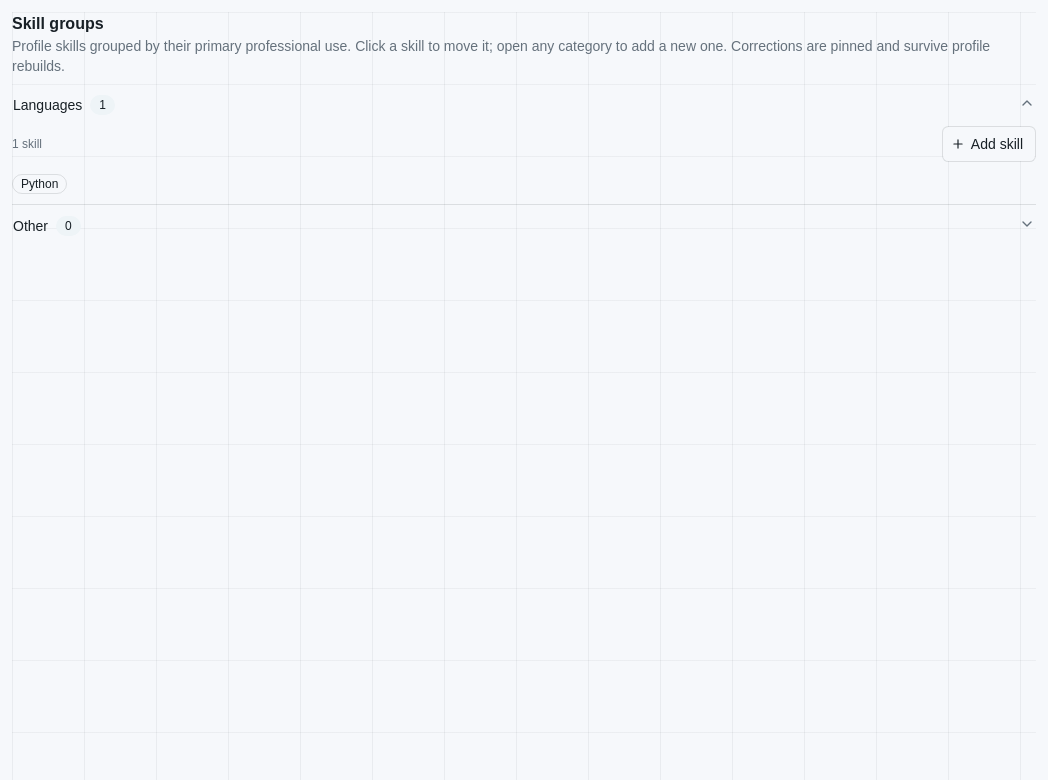
Test case: SkillGroupsPanel › does not offer reset for an automatic assignment
Click the button with aria-label "change group for python": (40, 184) x1=12 y1=174 x2=67 y2=194
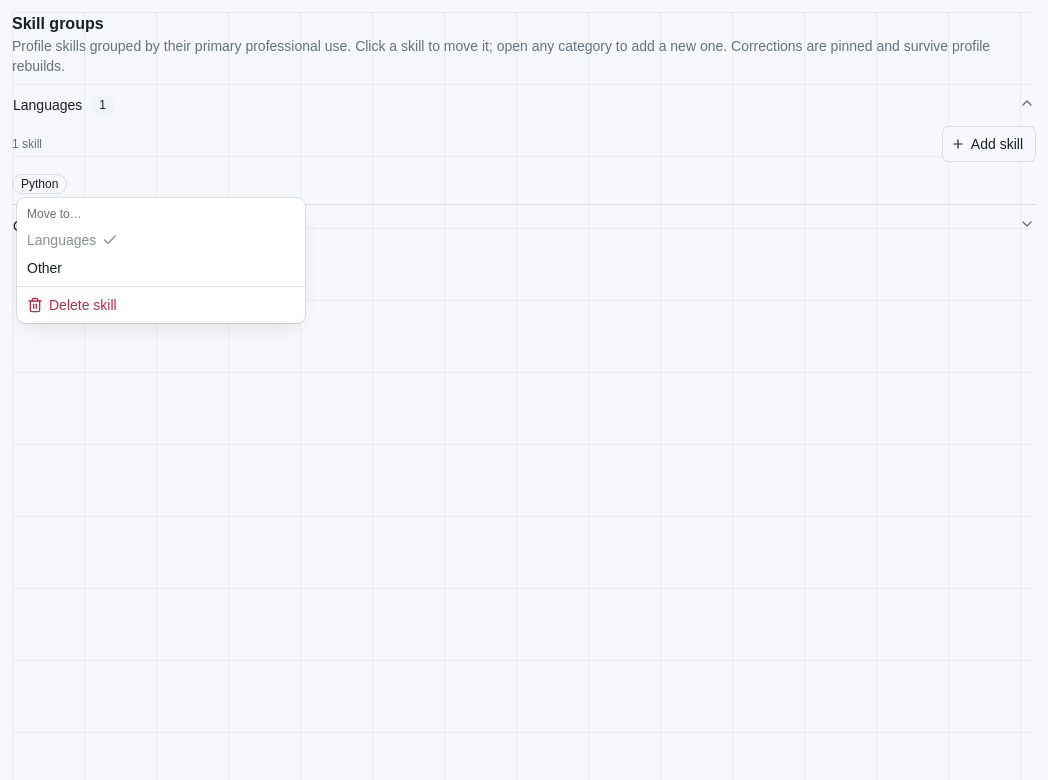
Now the menu item "Other" is shown, box x1=27 y1=260 x2=62 y2=276
